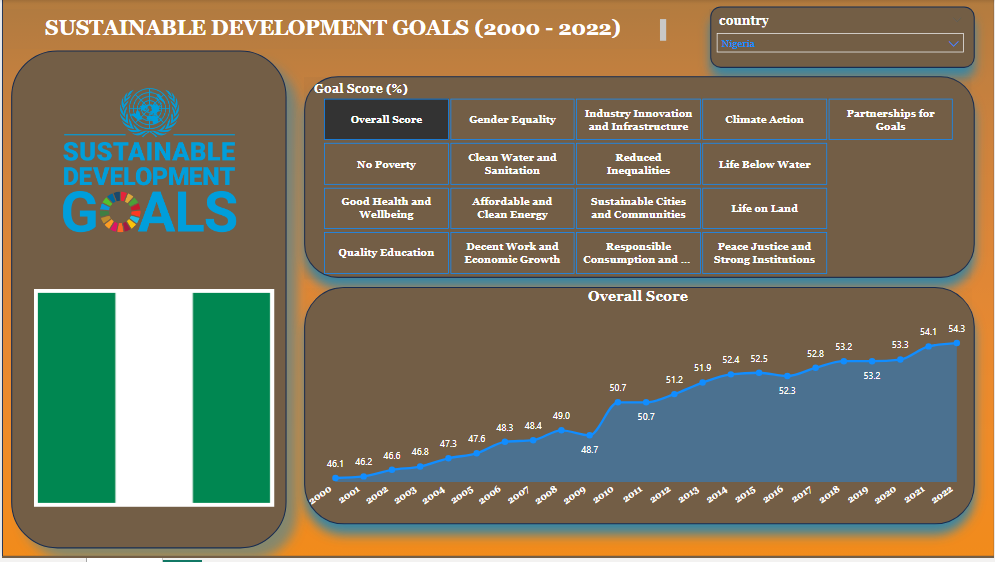

The page's visual inventory and layout, read from the dashboard file:
{"tool":"powerbi","page":{"name":"Page 1","canvas":[1280,720],"ordinal":0},"visuals":[{"type":"areaChart","fields":{"Y":["sdg_index_2000_2022.Overall Score"],"Category":["sdg_index_2000_2022.year"]},"box":[389.7,371.6,861.9,299.4],"z":0},{"type":"slicer","fields":{"Values":["countries1.country"]},"box":[912.4,11.8,339.1,74.6],"z":1000},{"type":"slicer","fields":{"Values":["Goal Score.Goal Score"]},"box":[390.1,99.5,861.4,260.5],"z":2000},{"type":"textbox","box":[0,11.6,861.9,51.6],"z":3000},{"type":"image","box":[29.7,99.4,321.3,219.4],"z":4000},{"type":"ImgViewerVisual1455487926945","fields":{"Values":["countries1.flag_url"]},"box":[41.3,372.9,309.7,281.3],"z":5000}]}

Visuals, with their boxes in screenshot pixels (x1, y1, x2, y2), scaled from the page's 1280x720 canvas onto the 995x562 screenshot:
areaChart - sdg_index_2000_2022.Overall Score x sdg_index_2000_2022.year: pyautogui.locateOnScreen(303, 290, 973, 524)
slicer - countries1.country: pyautogui.locateOnScreen(709, 9, 973, 67)
slicer - Goal Score.Goal Score: pyautogui.locateOnScreen(303, 78, 973, 281)
textbox: pyautogui.locateOnScreen(0, 9, 670, 49)
image: pyautogui.locateOnScreen(23, 78, 273, 249)
ImgViewerVisual1455487926945 - countries1.flag_url: pyautogui.locateOnScreen(32, 291, 273, 511)
